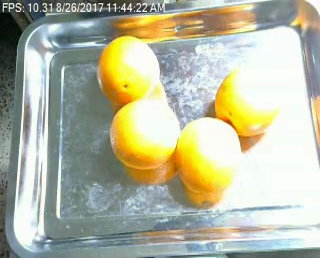Orange: (108, 100, 179, 169), (177, 116, 241, 192), (215, 71, 282, 136), (96, 36, 159, 104)
